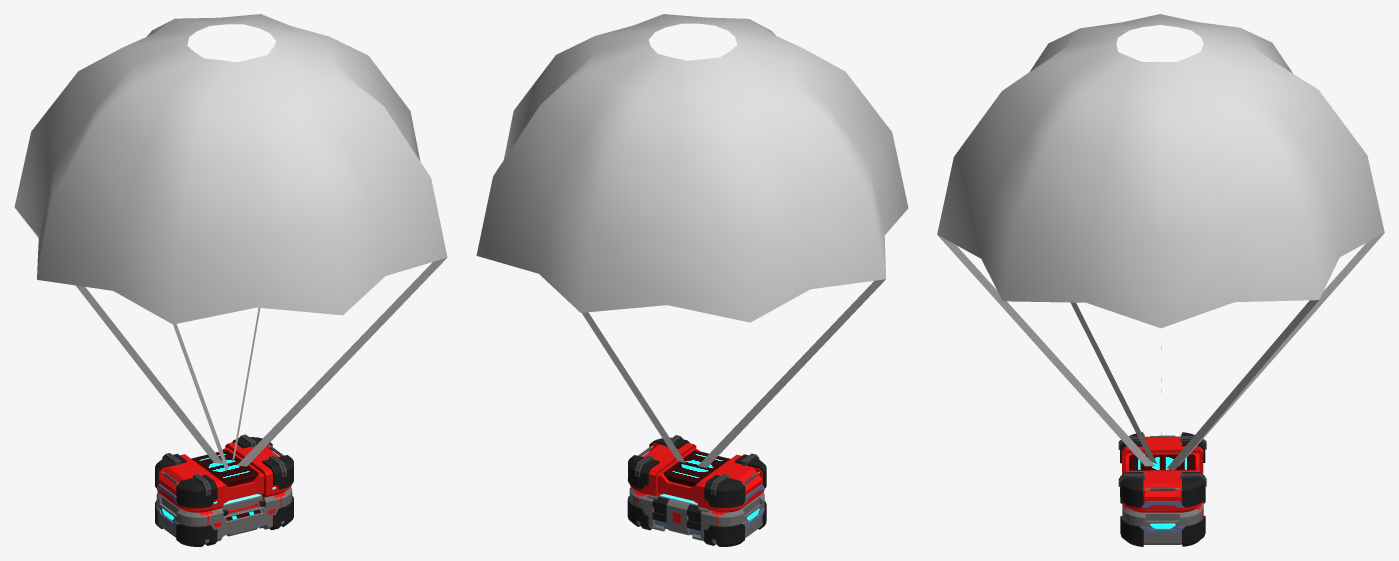
File: red.glb
The picture shows the model from 3 angles, left to right: view 1: azimuth 30°, elevation 25°; view 2: azimuth 150°, elevation 25°; view 3: azimuth 270°, elevation 25°; orthographic projection.
Visible parts, largest first — view 1: parachute, airdrop; view 2: parachute, airdrop; view 3: parachute, airdrop.
Boxes of the visible parts, x1,y1,x2,y2 form: parachute: (14,14,447,471); airdrop: (155,434,293,546); parachute: (476,14,908,467); airdrop: (627,435,766,546); parachute: (937,14,1384,470); airdrop: (1118,432,1206,546).
Bounding box in the file's own units: 275 × 326 × 275.
Materials: 1 (1 with a texture image).
